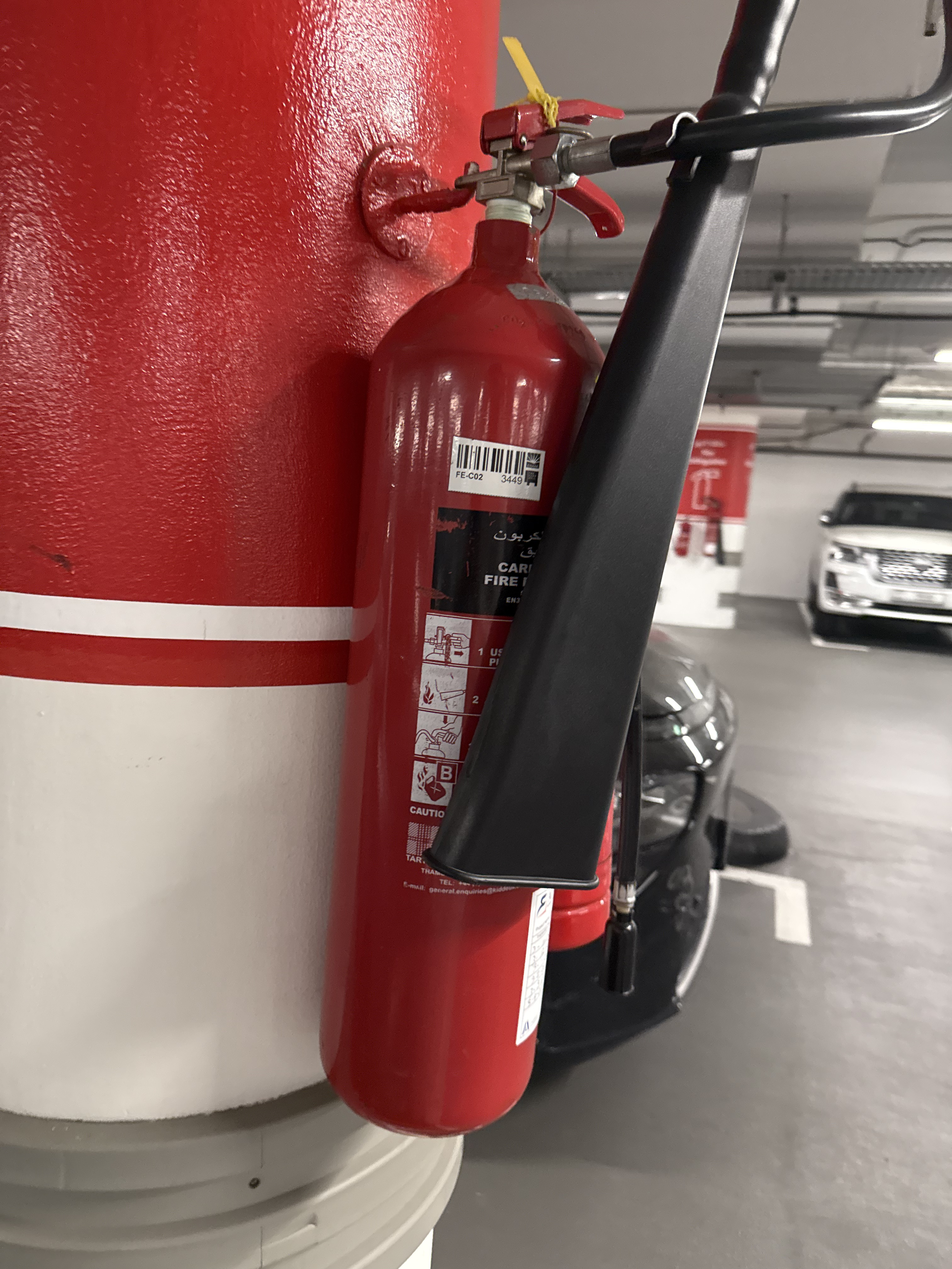fire_extinguisher: (318, 90, 627, 1139)
